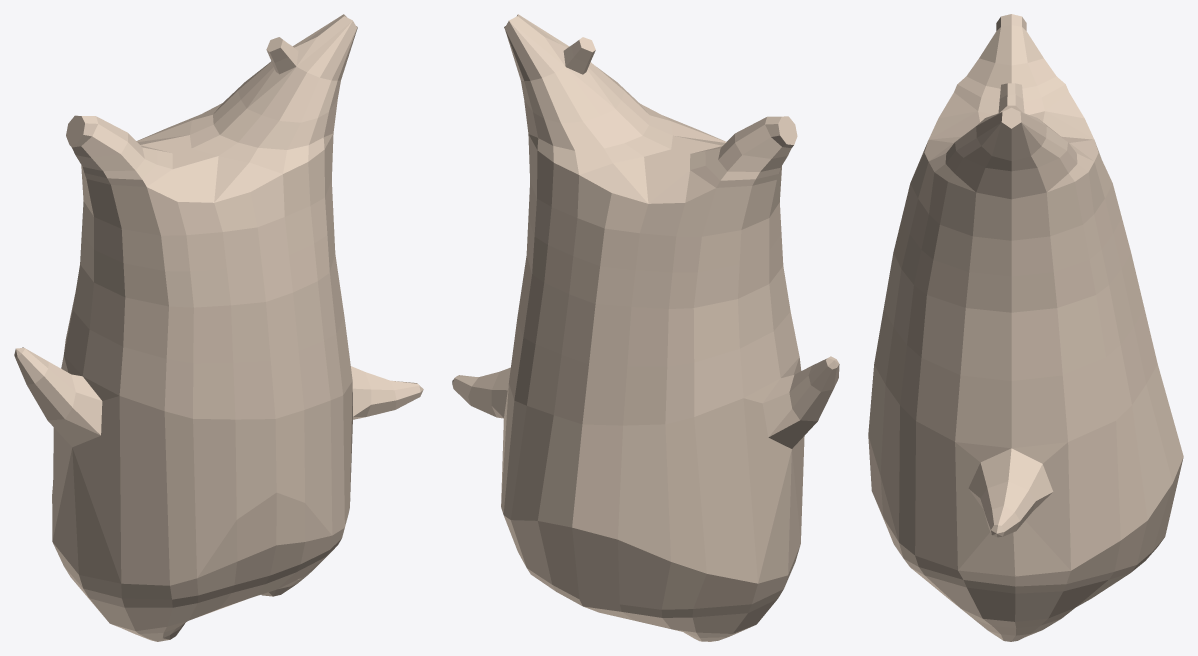
Rendered from frame_0055.obj.
3 views of the same model, side by side, from view 1: azimuth 30°, elevation 25°; view 2: azimuth 150°, elevation 25°; view 3: azimuth 270°, elevation 25° (orthographic).
Parts seen in each view (by area): view 1: korok; view 2: korok; view 3: korok.
Part boxes in pixels (x1=…): korok: x1=14, y1=14, x2=423, y2=641; korok: x1=452, y1=14, x2=839, y2=641; korok: x1=868, y1=14, x2=1183, y2=641.
Size of the model in its own units: 1.57 by 2.18 by 1.07.
